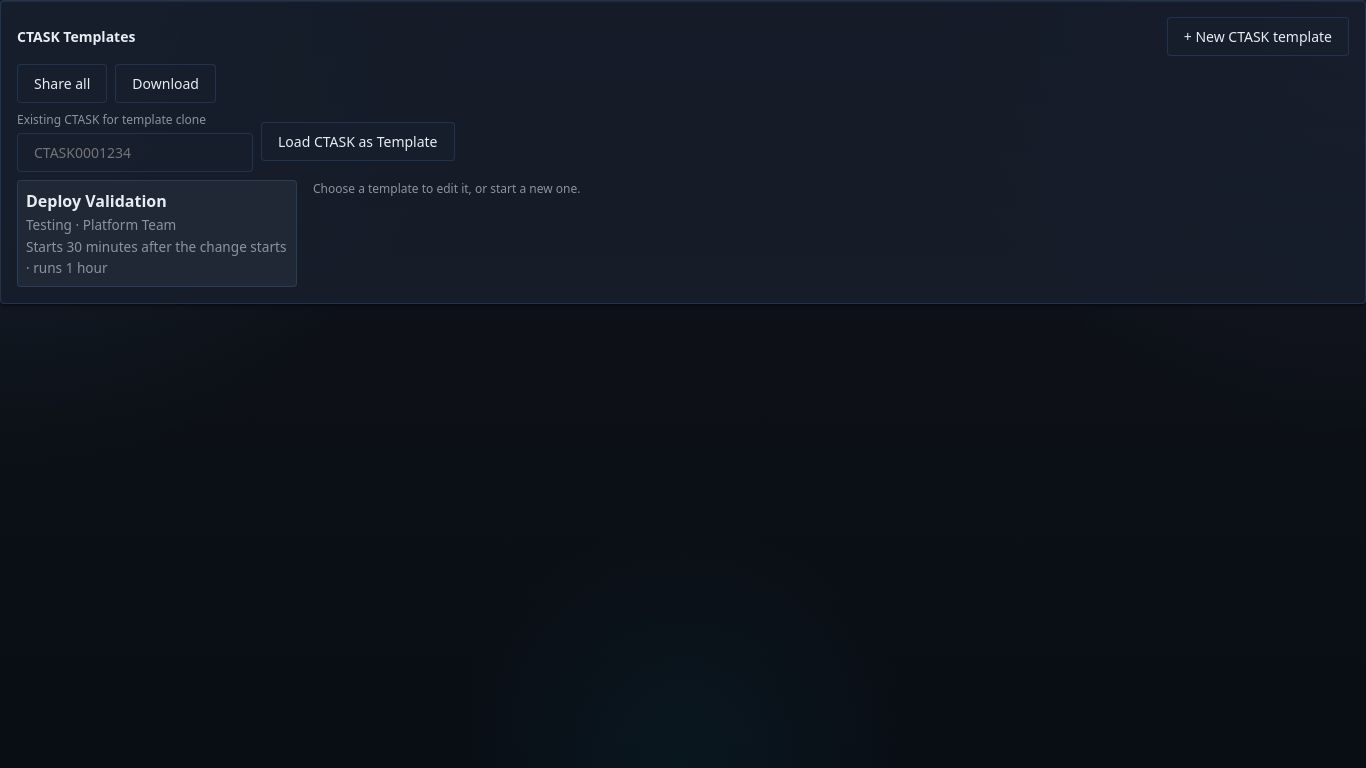
Test: CtaskTemplateManager › loads an existing CTASK into a new, unsaved template
The width and height of the screenshot is (1366, 768).
Type "ctask0001234" into the field labelled "Existing CTASK for template clone".
click(135, 152); type("ctask0001234")  # box [17,133,253,172]
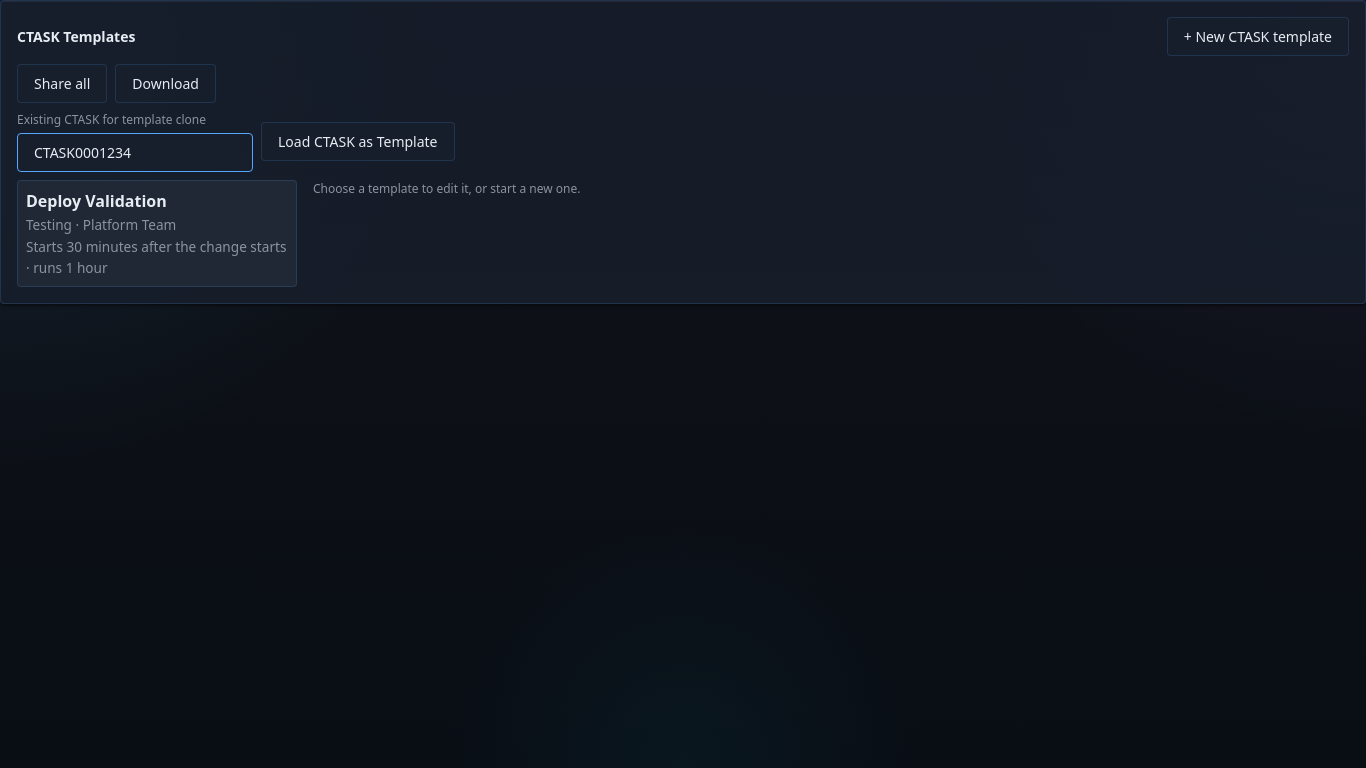
Click the button "Load CTASK as Template".
click(358, 142)  # box [261,122,454,161]
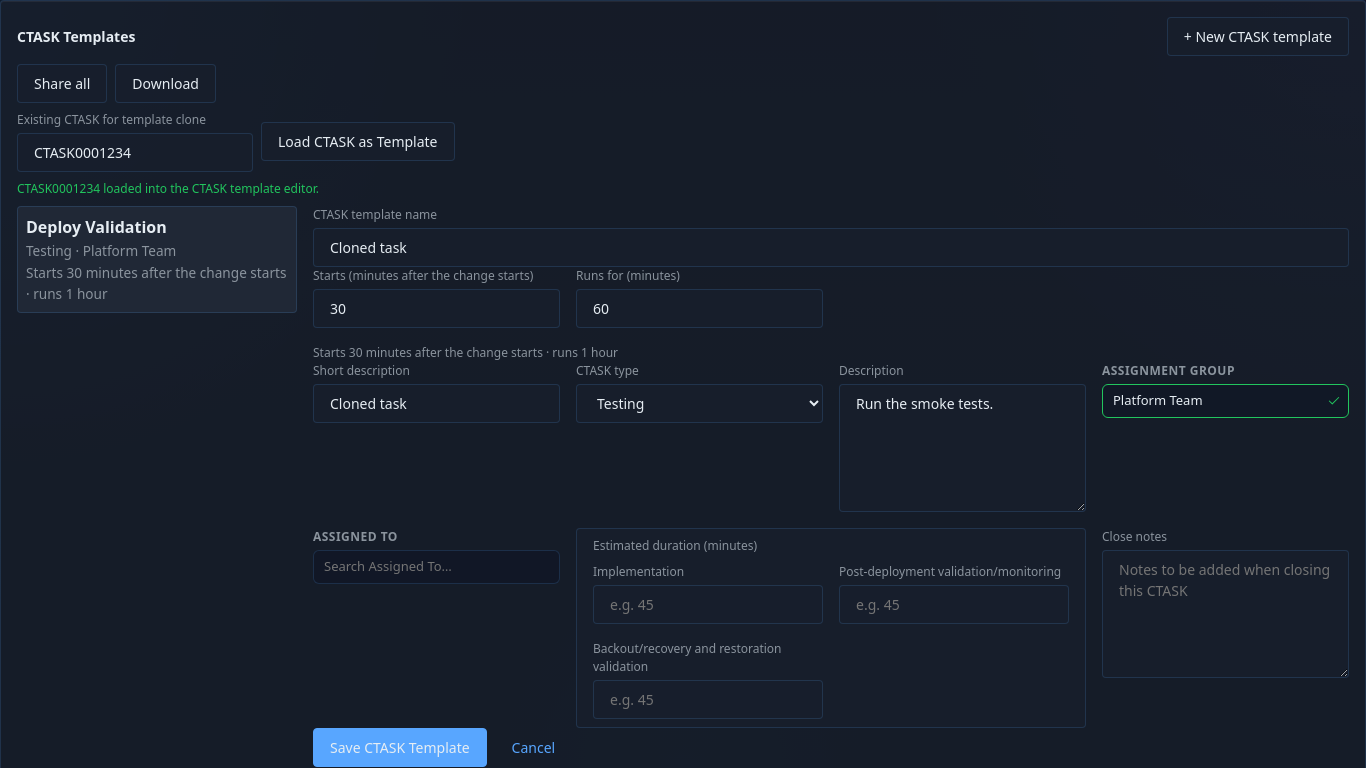
Check: the message reads "CTASK0001234 loaded into the CTASK template editor.", box [17,180,319,197]
Check: the field labelled "CTASK template name" holds "Cloned task", box [313,228,1349,267]
Check: the button "Save CTASK Template" is enabled, box [313,728,487,767]
